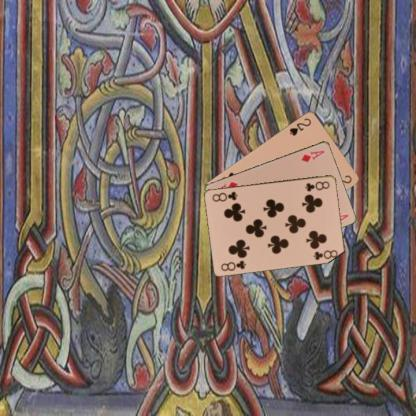2s: (286, 115, 312, 137)
8c: (218, 258, 248, 272), (302, 178, 331, 192)
Ad: (299, 148, 326, 163)
